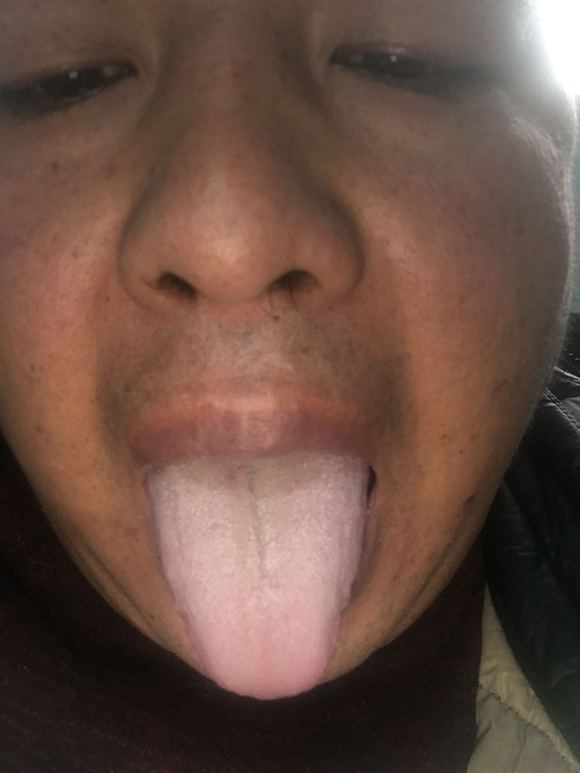baitaishe: (148, 450, 371, 699)
liewenshe: (245, 476, 267, 569)
